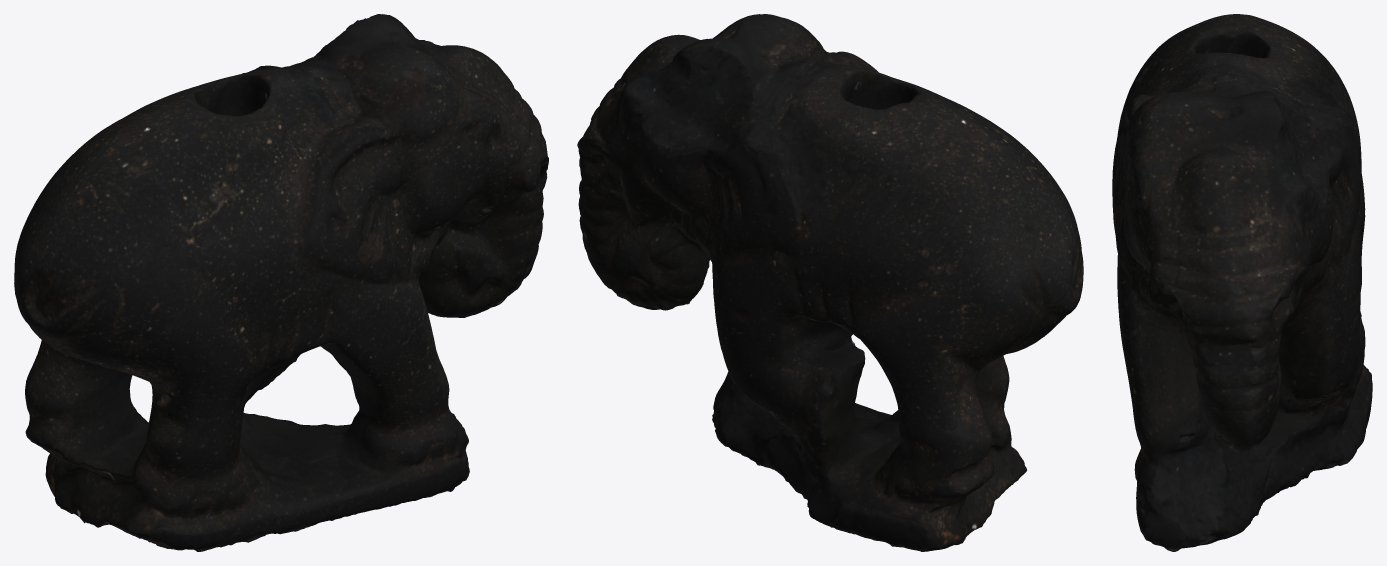
Rendered from preview.glb.
The picture shows the model from 3 angles, left to right: view 1: azimuth 30°, elevation 25°; view 2: azimuth 150°, elevation 25°; view 3: azimuth 270°, elevation 25°; orthographic projection. The views are drawn at different scales.
Visible parts, largest first — view 1: ADVIMG_PHOTS_42031_Elephant_FixedEditTextured_ADVIMG_PHOTS_4; view 2: ADVIMG_PHOTS_42031_Elephant_FixedEditTextured_ADVIMG_PHOTS_4; view 3: ADVIMG_PHOTS_42031_Elephant_FixedEditTextured_ADVIMG_PHOTS_4.
Boxes of the visible parts, box(x1,y1,x2,y2) form: ADVIMG_PHOTS_42031_Elephant_FixedEditTextured_ADVIMG_PHOTS_4: box(14, 14, 548, 551); ADVIMG_PHOTS_42031_Elephant_FixedEditTextured_ADVIMG_PHOTS_4: box(577, 14, 1083, 551); ADVIMG_PHOTS_42031_Elephant_FixedEditTextured_ADVIMG_PHOTS_4: box(1112, 14, 1372, 551).
Bounding box in the file's own units: 0.1139 × 0.0933 × 0.05.
Materials: 1 (1 with a texture image).
